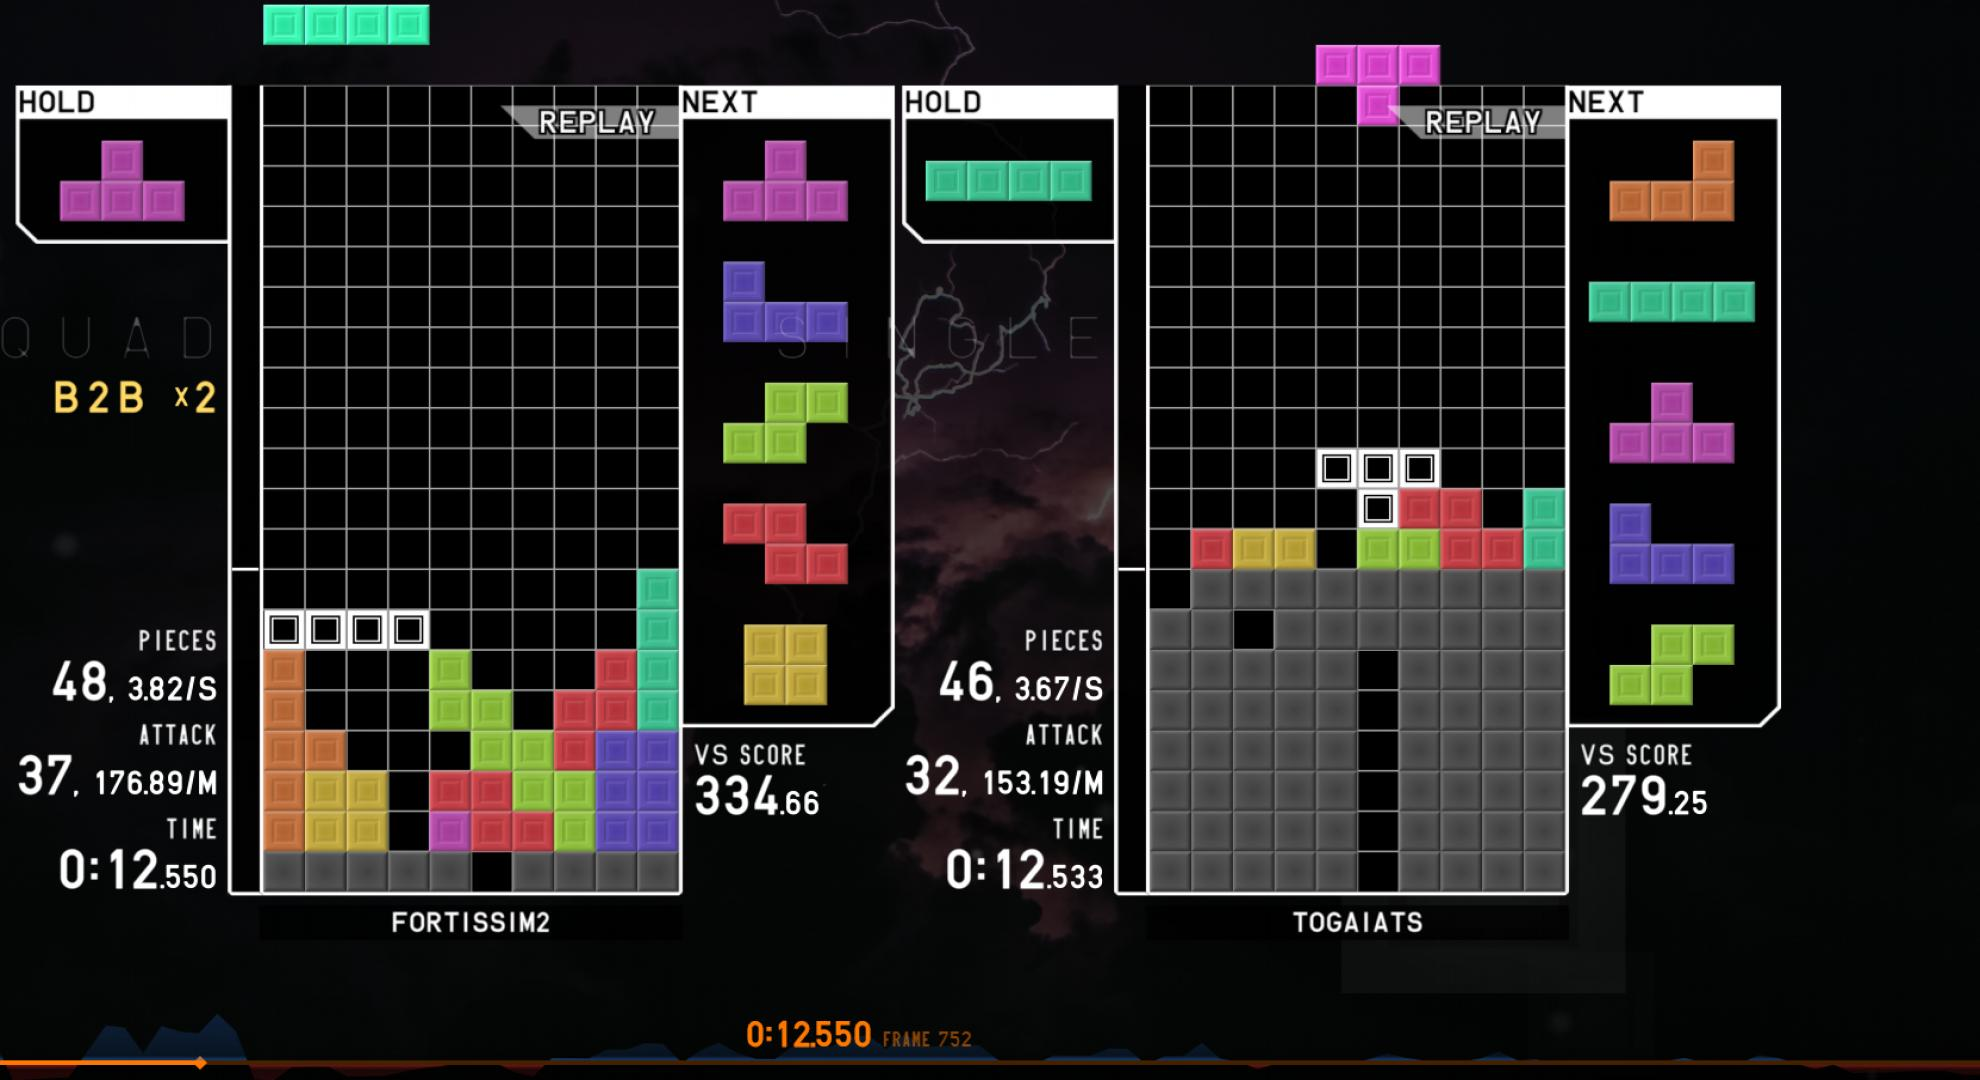tspin: (347, 688, 480, 811)
